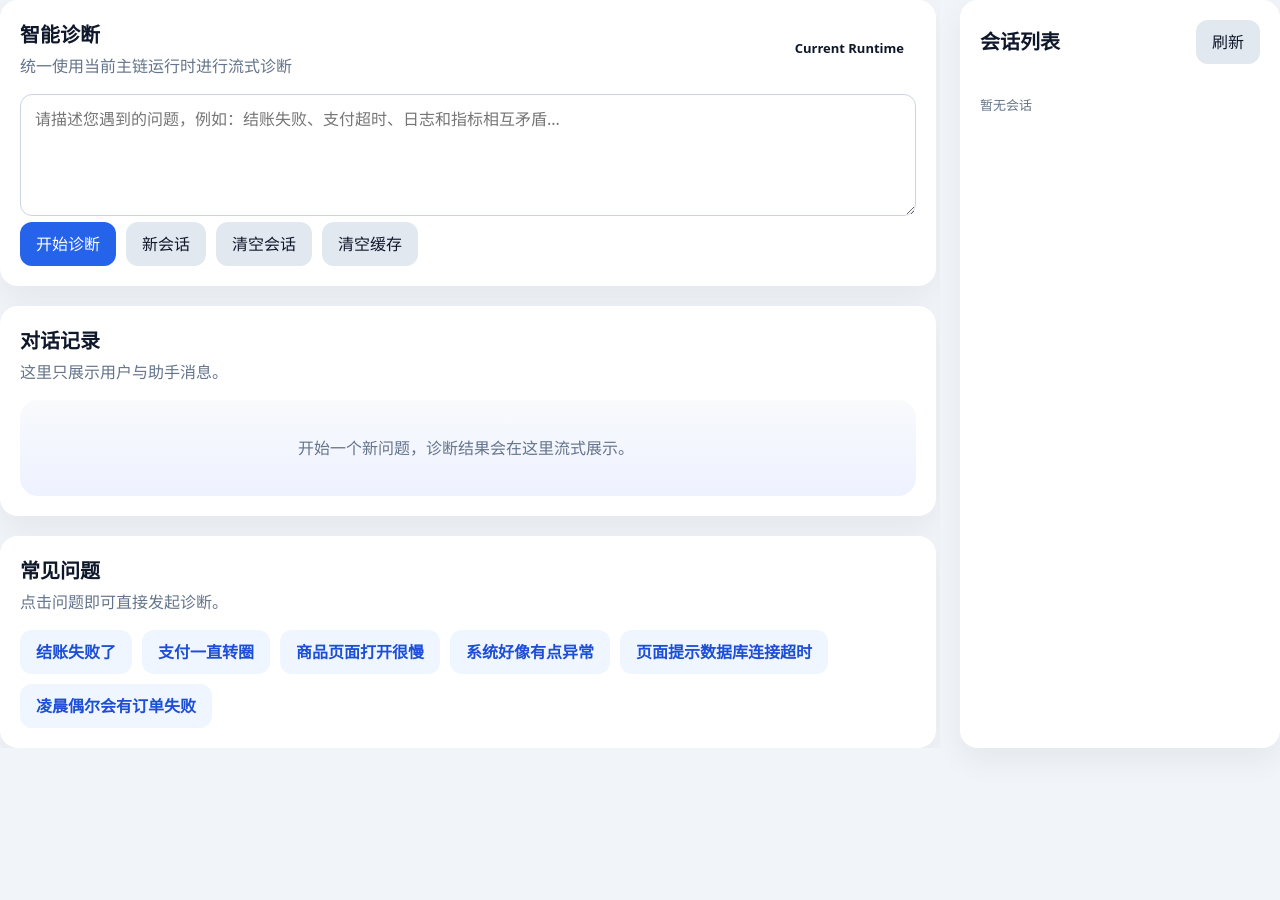
Test: DiagnosisPage › 超过最大轮次时在对话里显示异常打断小字提示
Type "帮我诊断一个复杂问题" into the text box with placeholder "请描述您遇到的问题，例如：结账失败、支付超时、日志和指标相互矛盾..." at (468,155), box [20,94,916,216]
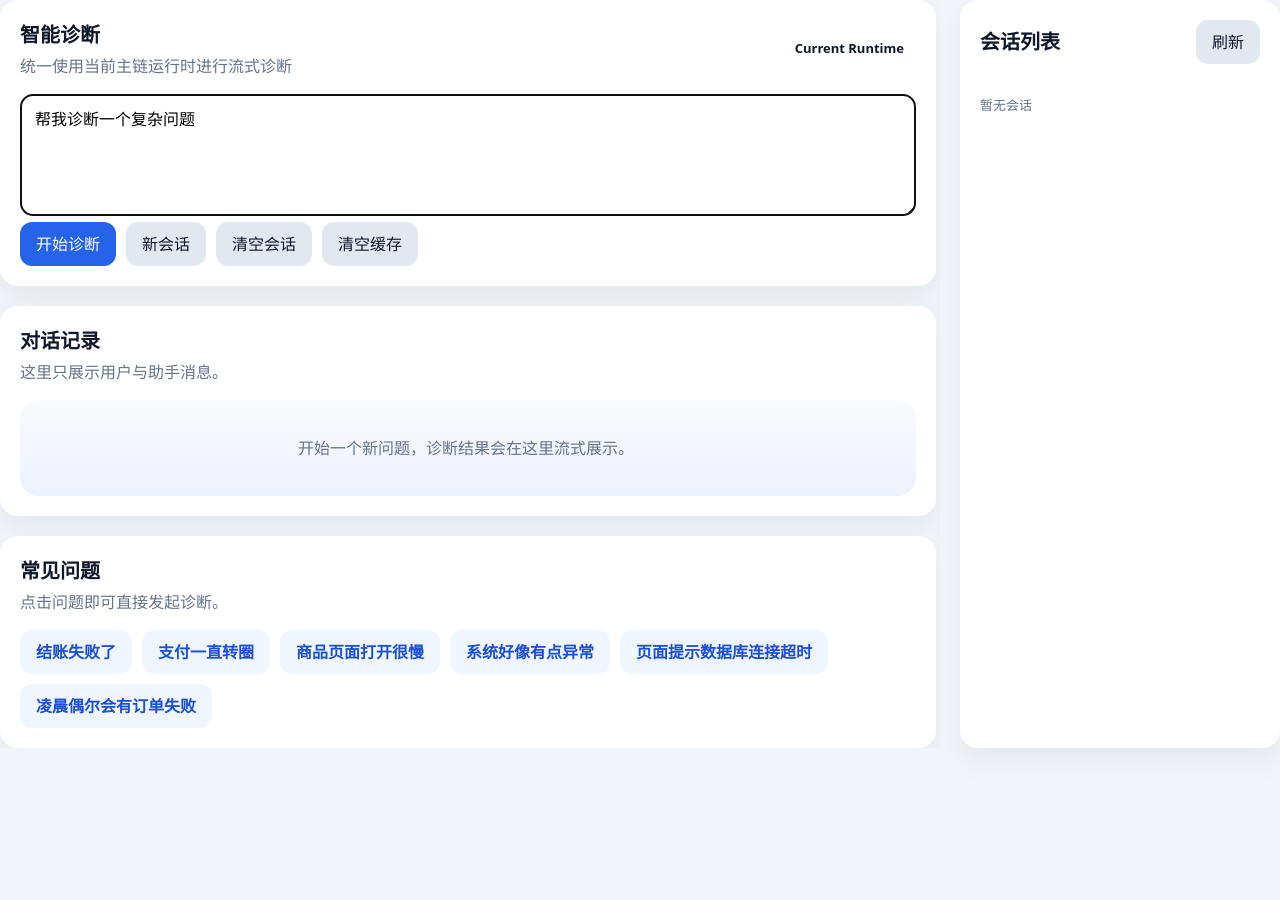
Click the button "开始诊断" at (68,244), box [20,222,116,266]
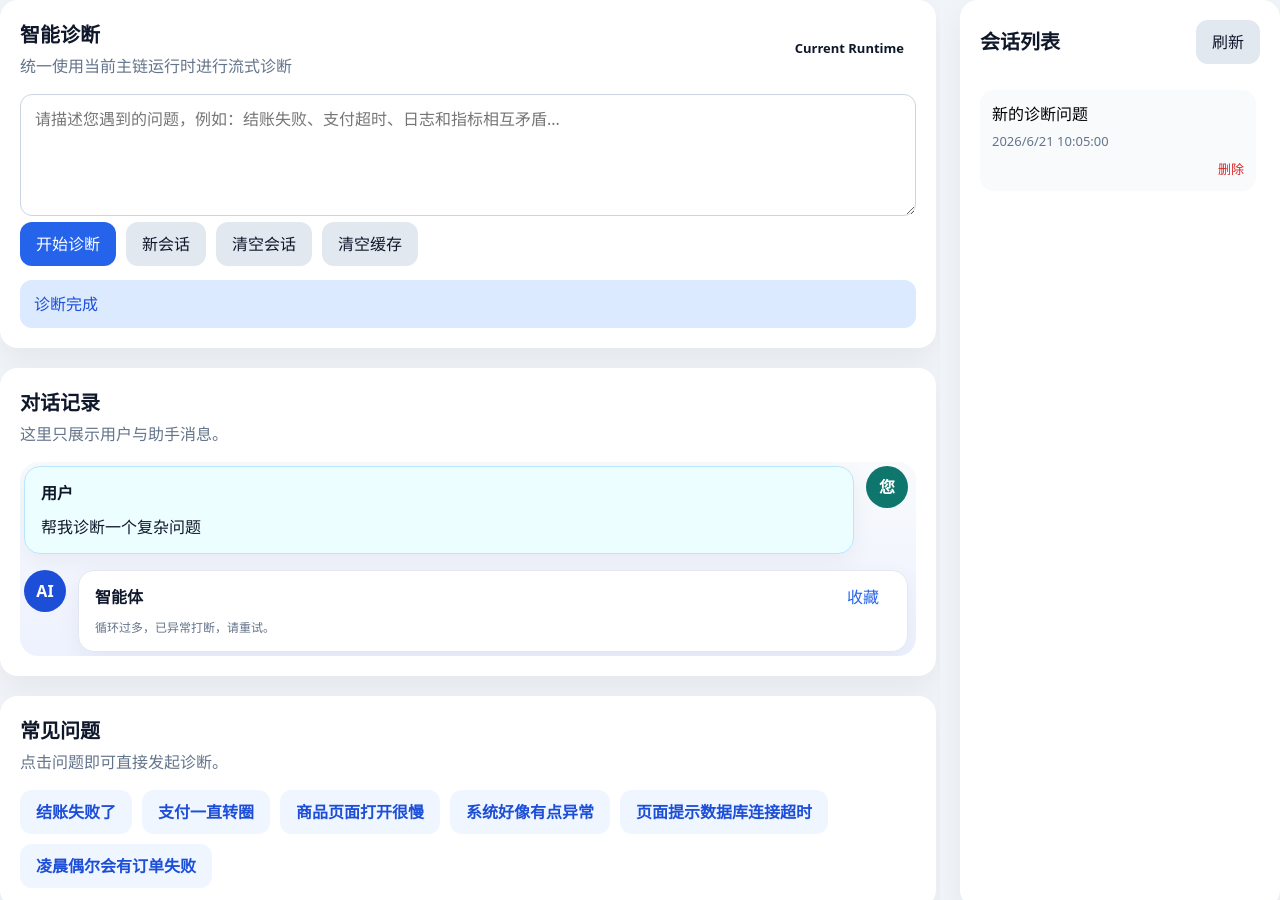
Check: the text "循环过多，已异常打断，请重试。" is shown, box [95,619,275,636]
